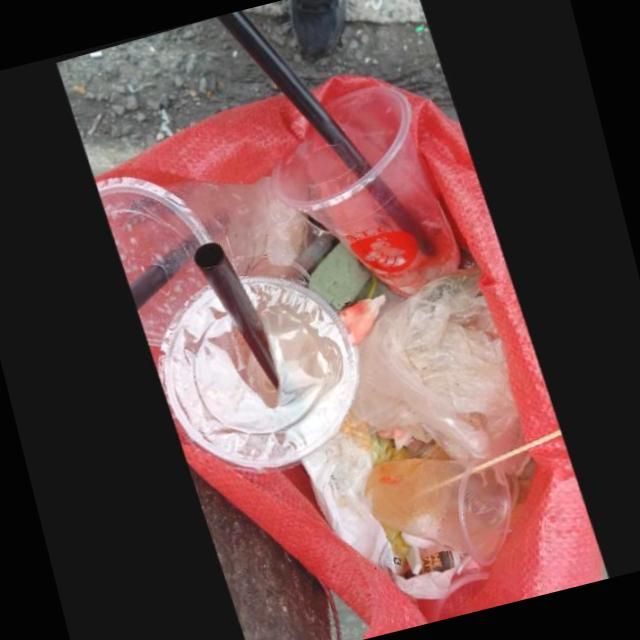bao_bi_thuc_pham: (384, 530, 461, 597)
hop_nhua: (270, 88, 459, 297), (161, 274, 356, 467), (359, 457, 512, 565)
ong_hut_nhua: (216, 9, 365, 173), (191, 239, 276, 387)
tui_ni_long: (344, 265, 521, 468), (297, 409, 395, 571)
